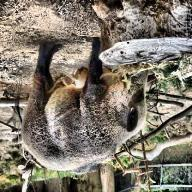boar: (8, 31, 171, 182)
